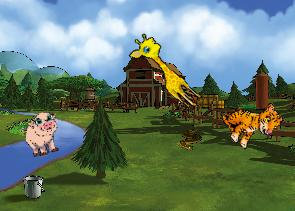giraffe: (124, 29, 211, 112)
pig: (18, 109, 66, 160)
tiger: (216, 87, 286, 155)
